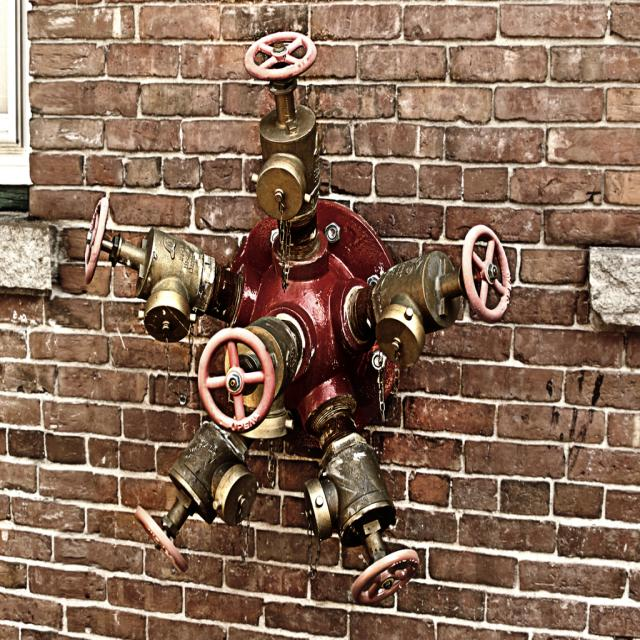fire_hydrant: (86, 31, 512, 607)
